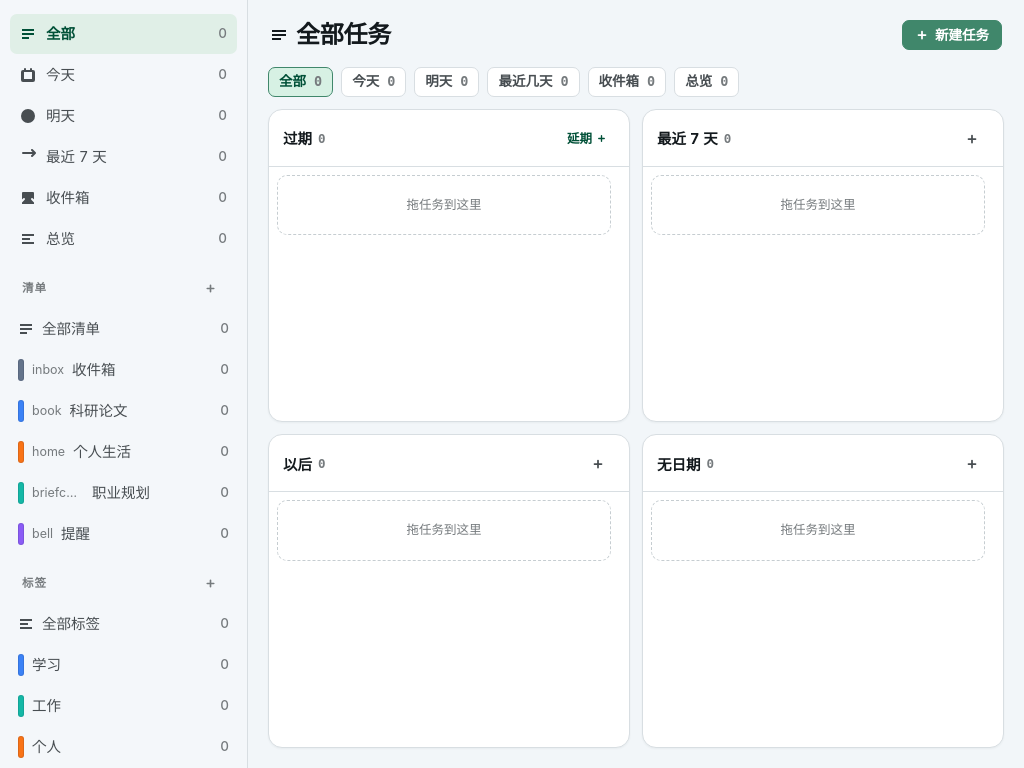
TasksModule — T-EMPTY-2 board-level empty state ZH (D-QT) › T-EMPTY-2a: ZH lang + next7 filter + empty next7 bucket → ZH bucket-framed empty state
The width and height of the screenshot is (1024, 768).
Click the text with class "grow" showing "最近 7 天": coordinates (76, 157) [46,148,107,166]
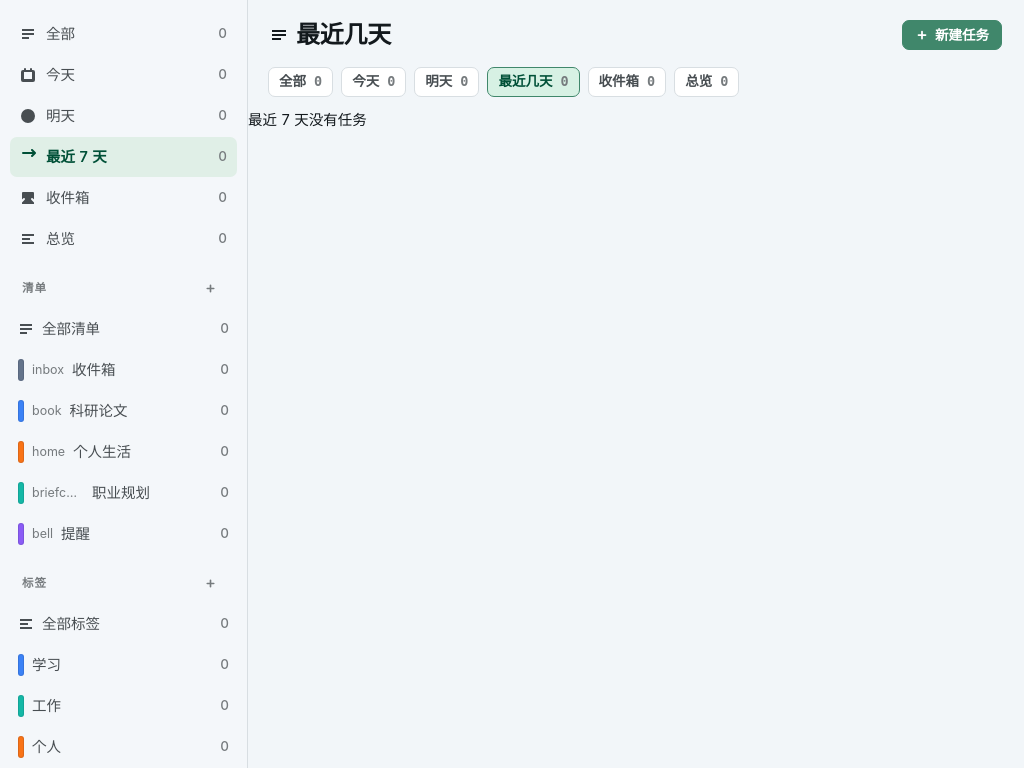
Expected: the message with class "tasks-board-empty" reads "最近 7 天没有任务", [248,111,367,128]
